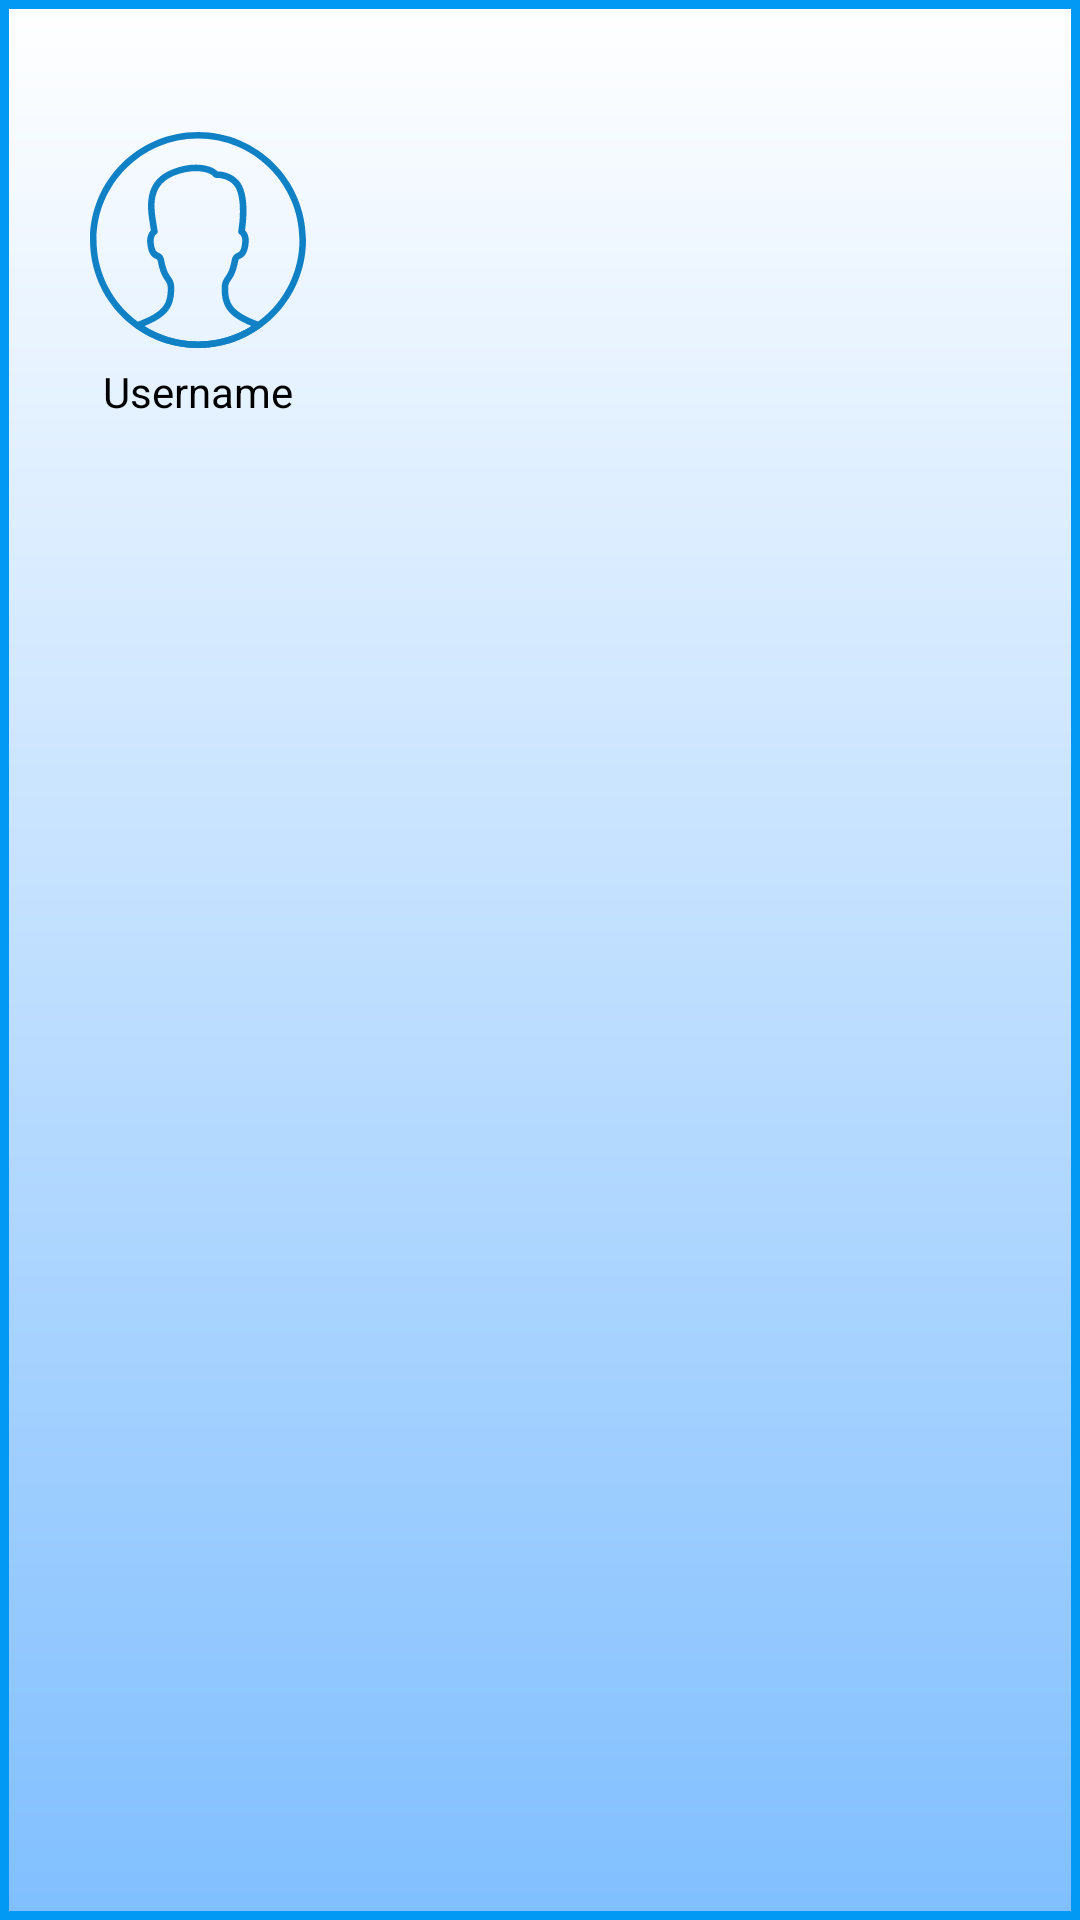

Icon bounding boxes for this 1080*1920 phone screenshot, format (x1, y1, x2, y2):
man: (90, 132, 306, 348)
